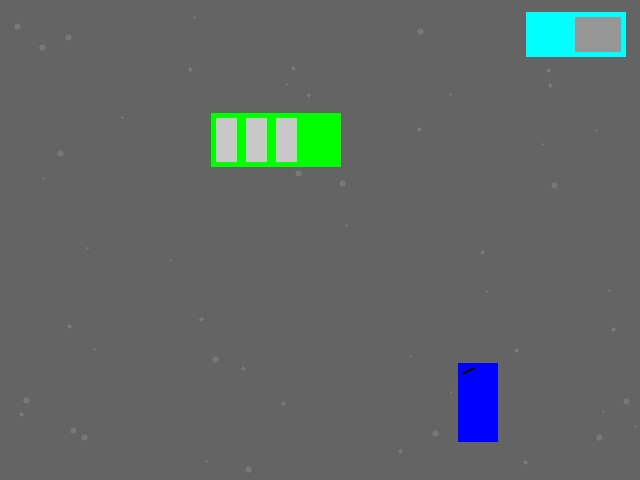bus: (211, 113, 340, 166)
motorcycle: (458, 363, 497, 441)
truck: (526, 12, 625, 56)
